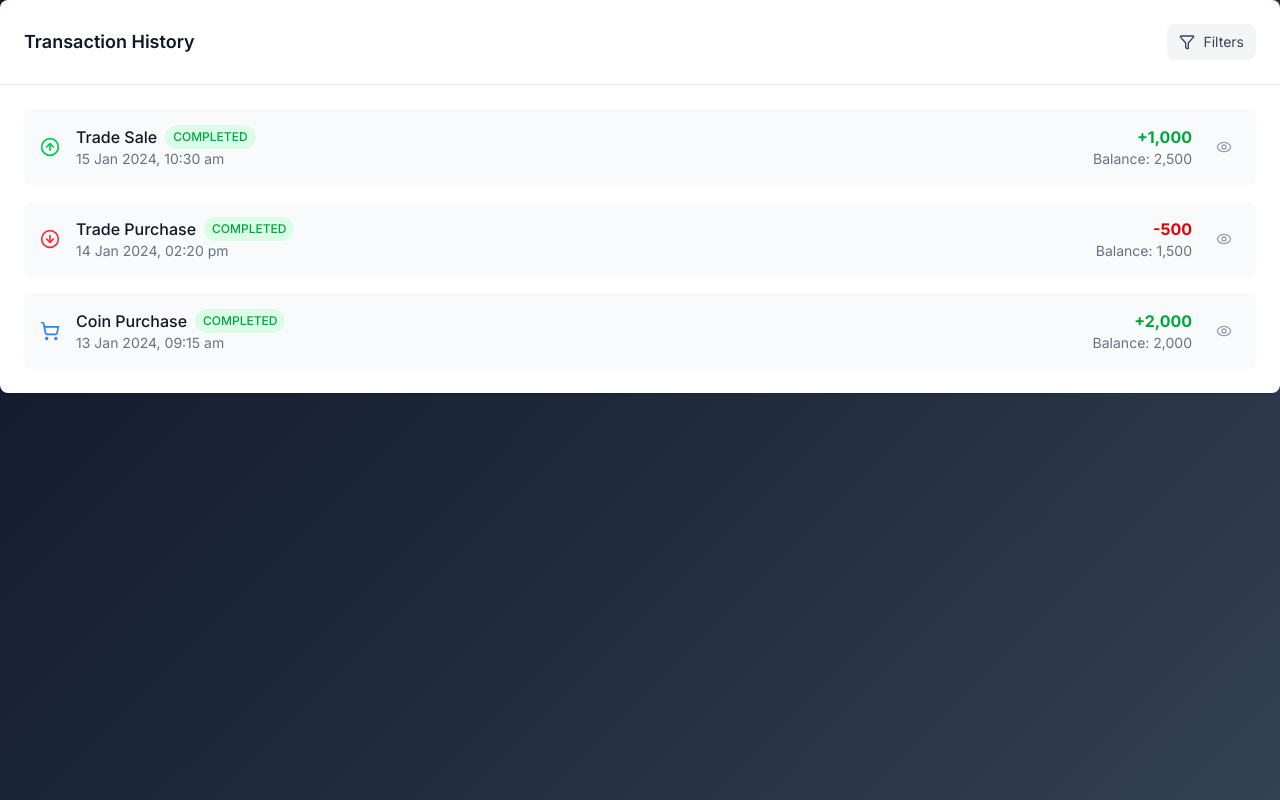
Scenario: CoinTransactionHistory › Transaction Details Modal › should open transaction details modal when view details button is clicked
The image size is (1280, 800).
Expected: the text "Trade Sale" is shown, [76,125,157,149]
Click the button titled "View details" next to "1,000" at (1224, 147), box [1208,131,1240,163]
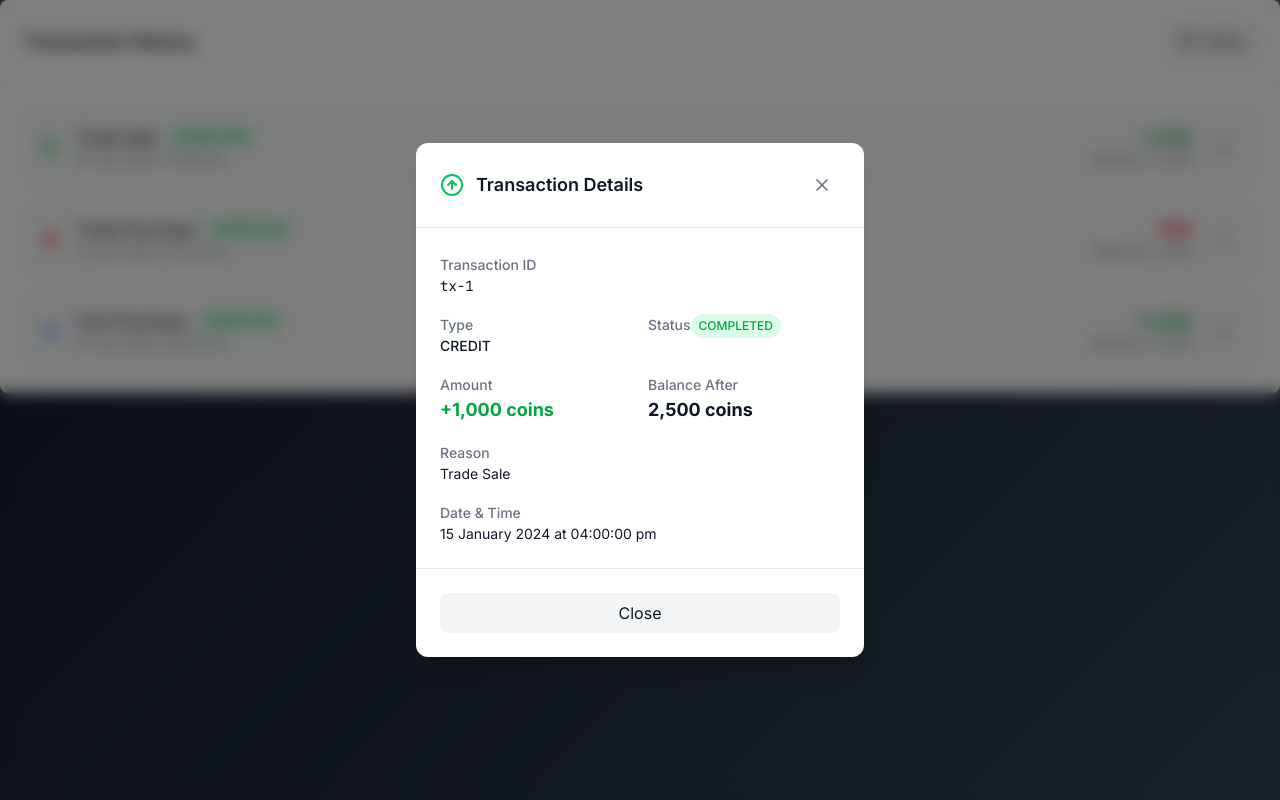
Now the heading "Transaction Details" is shown, box [476,171,643,199]
Now the text "tx-1" is shown, box [440,277,474,295]
